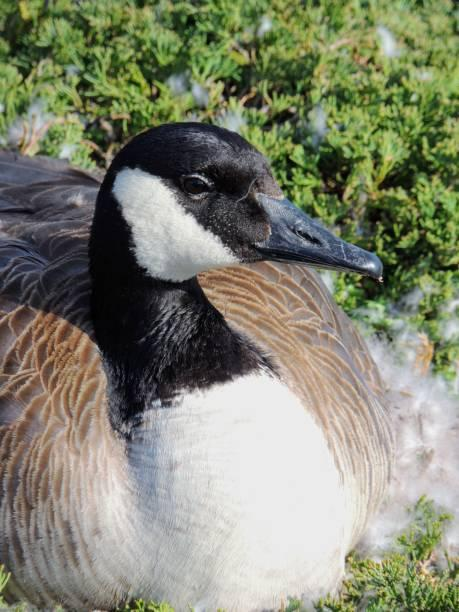Canadian-Goose: (0, 122, 394, 612)
